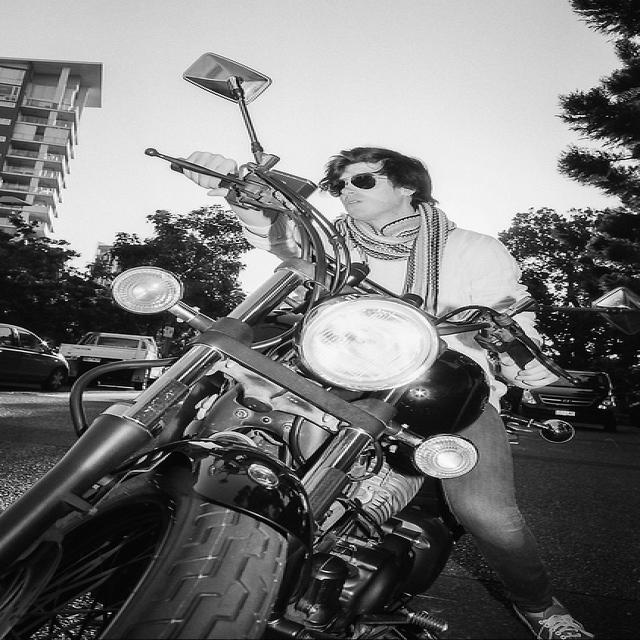motor: (2, 49, 640, 631), (500, 398, 575, 445)
